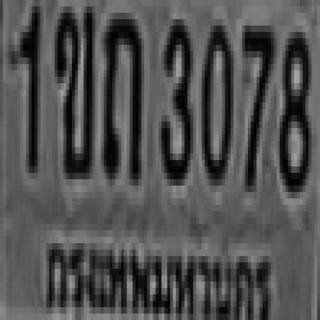A02: (52, 3, 92, 170)
A22: (101, 6, 141, 179)
N00: (199, 19, 231, 179)
N01: (16, 3, 39, 170), (17, 0, 38, 166)
N03: (159, 13, 190, 179)
N07: (239, 19, 271, 186)
N08: (277, 26, 308, 186)
P04: (42, 232, 274, 320)
